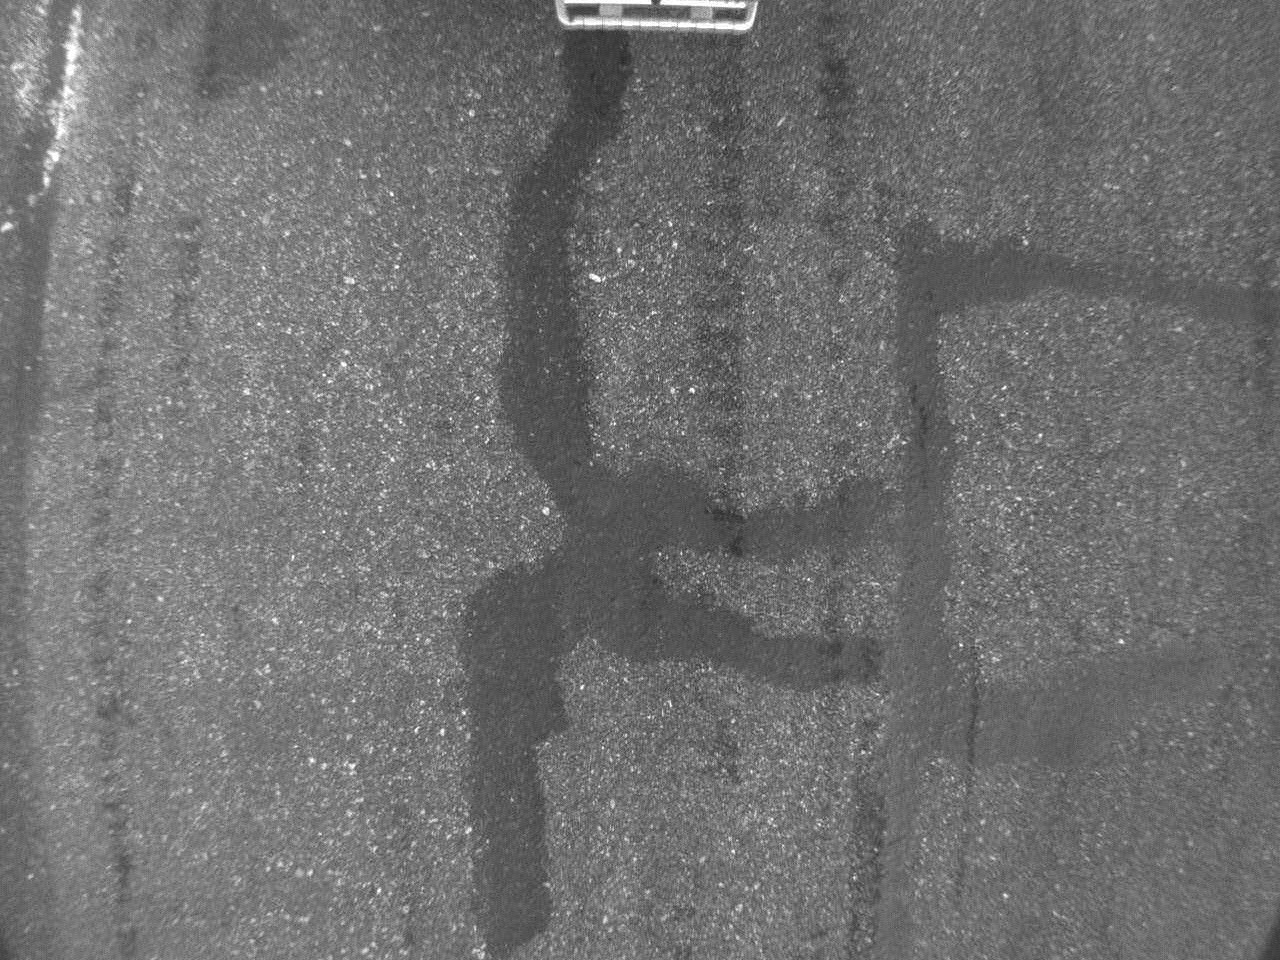sealed: (463, 33, 871, 960)
